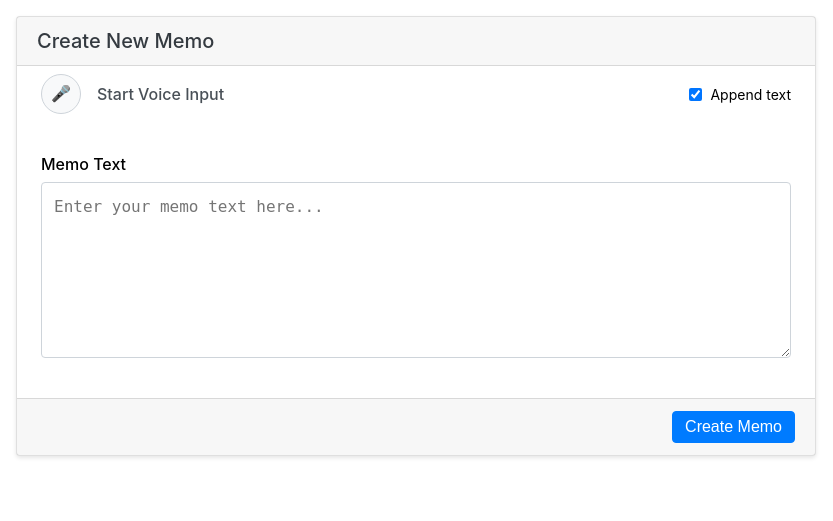
it: MemoForm Component › shows error when memo creation fails
Note: Enter text in the textarea
Type "New memo text" into the text box with test id "memo-text-input" at (416,270), box [41,182,791,358]
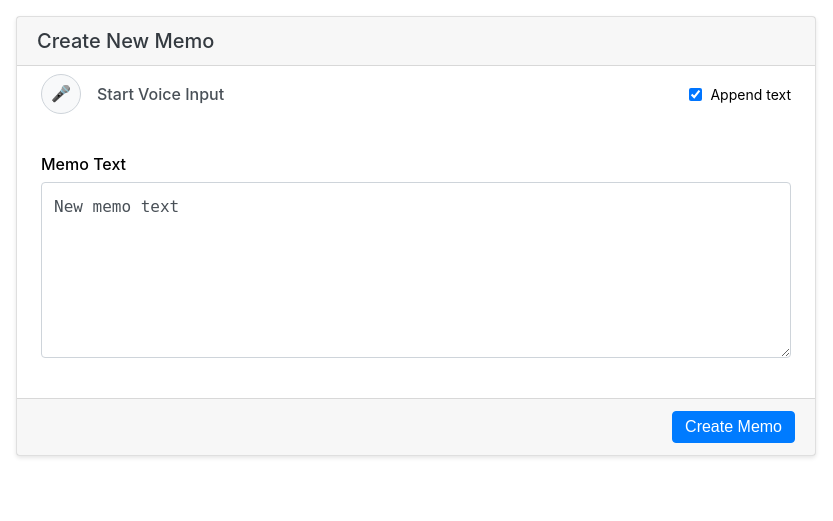
Note: Submit the form
Submit the form with test id "memo-form-element", box [17,130,815,455]
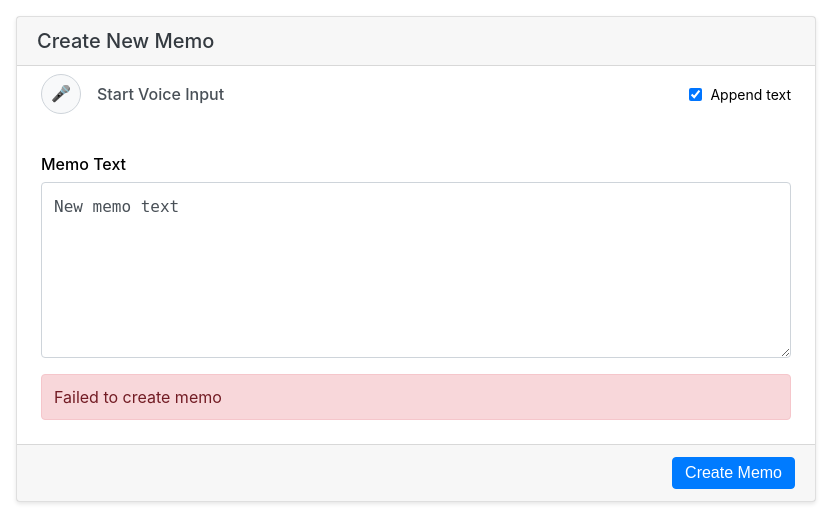
Expected: the text "Failed to create memo" is shown, [41,374,791,420]
